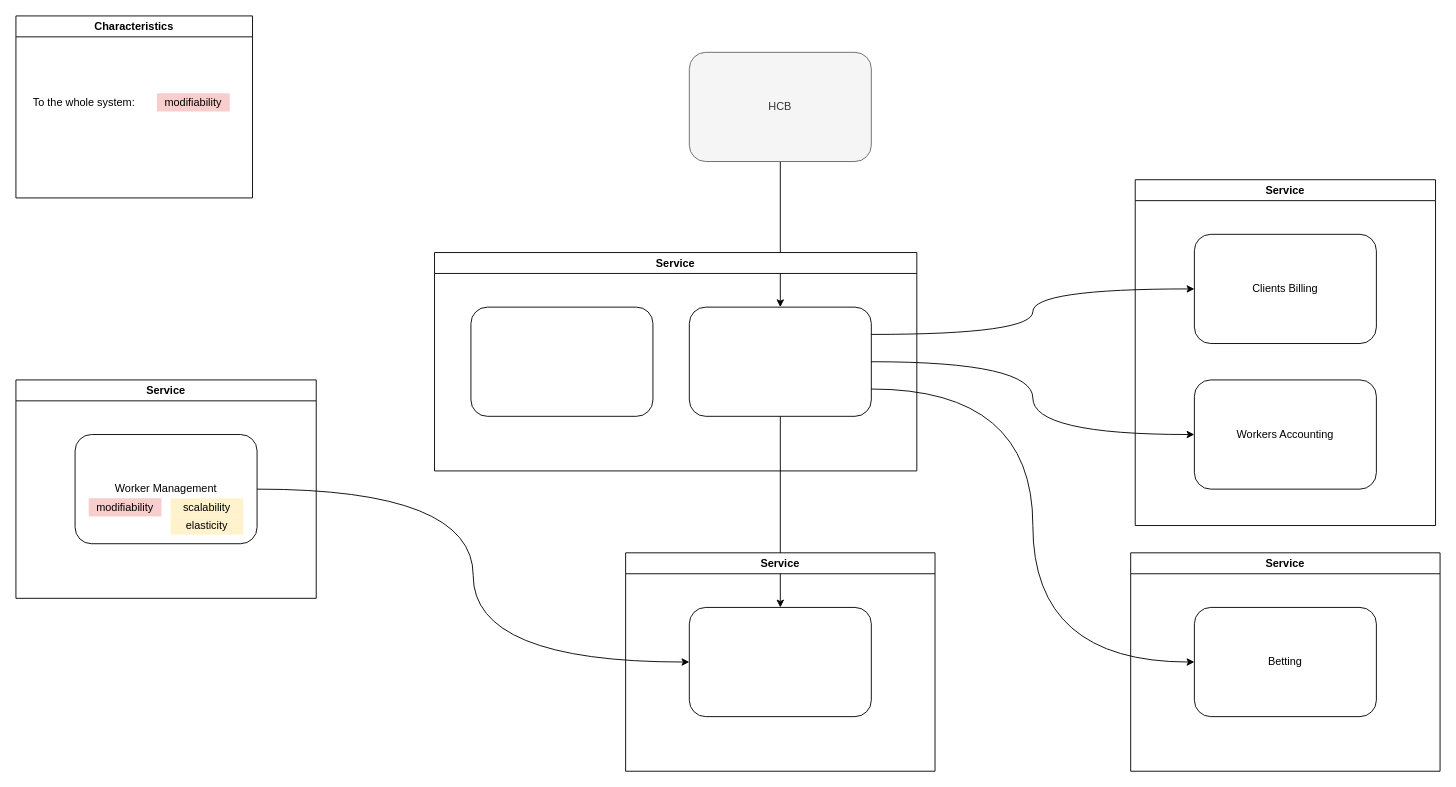
This 1456x787 diagram has some shape labels left out. Here are the shapes that lost their labels. From the top down, the centre of each, then its label:
At pixel 561 361: "Quality Control".
At pixel 779 361: "Marketplace".
At pixel 779 662: "Matching Engine".
